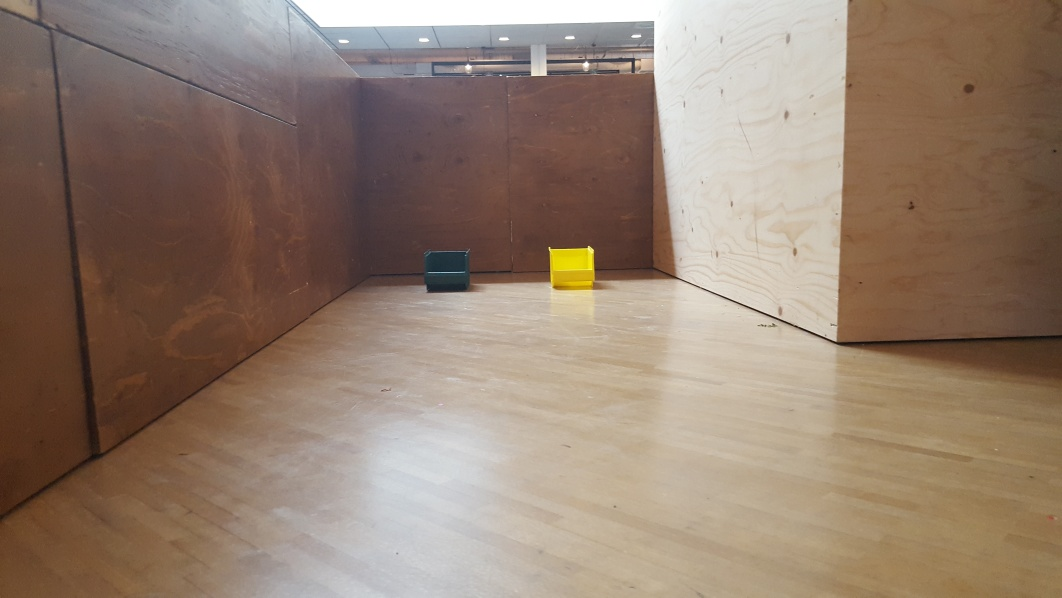tray: (543, 244, 597, 288), (423, 246, 473, 292)
